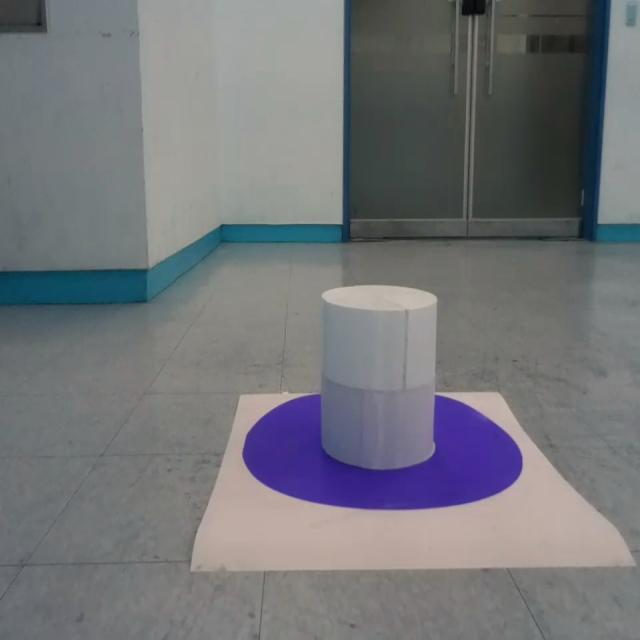cylinder: (320, 284, 439, 470)
